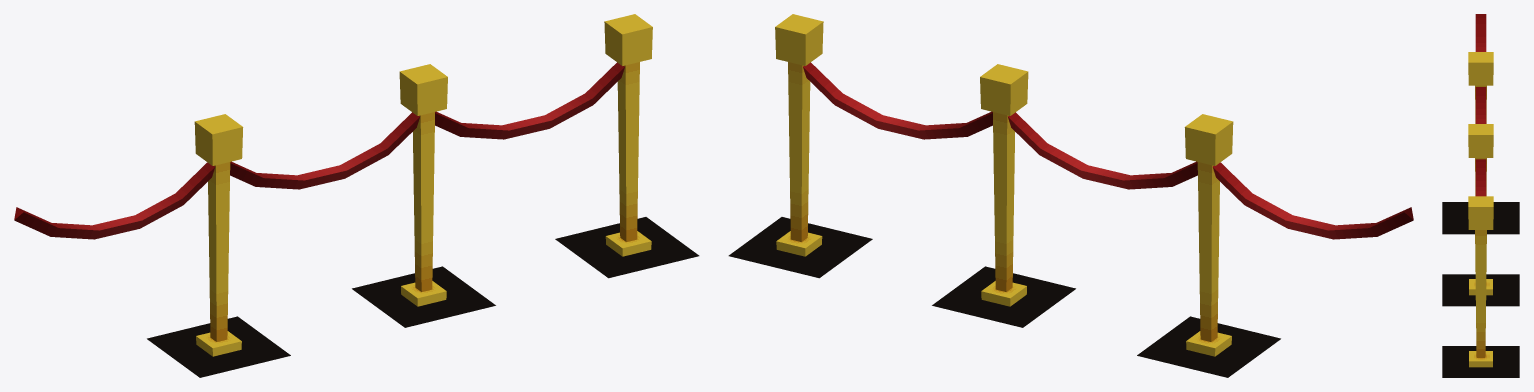
Rendered from 3x1_velvet_rope.FBX.
3 renders of one model, left to right at view 1: azimuth 30°, elevation 25°; view 2: azimuth 150°, elevation 25°; view 3: azimuth 270°, elevation 25°, orthographic. The views are drawn at different scales.
Parts seen in each view (by area): view 1: 3x1_velvet_rope, 3x1_velvet_rope_soft_shadow; view 2: 3x1_velvet_rope, 3x1_velvet_rope_soft_shadow; view 3: 3x1_velvet_rope, 3x1_velvet_rope_soft_shadow.
Part boxes in pixels (x1,y1,x2,y2): 3x1_velvet_rope: [14, 14, 652, 356]; 3x1_velvet_rope_soft_shadow: [147, 217, 699, 377]; 3x1_velvet_rope: [775, 14, 1413, 356]; 3x1_velvet_rope_soft_shadow: [728, 217, 1280, 377]; 3x1_velvet_rope: [1468, 14, 1493, 367]; 3x1_velvet_rope_soft_shadow: [1442, 202, 1519, 377].
Size of the model in its own units: 3216 by 1050 by 454.
